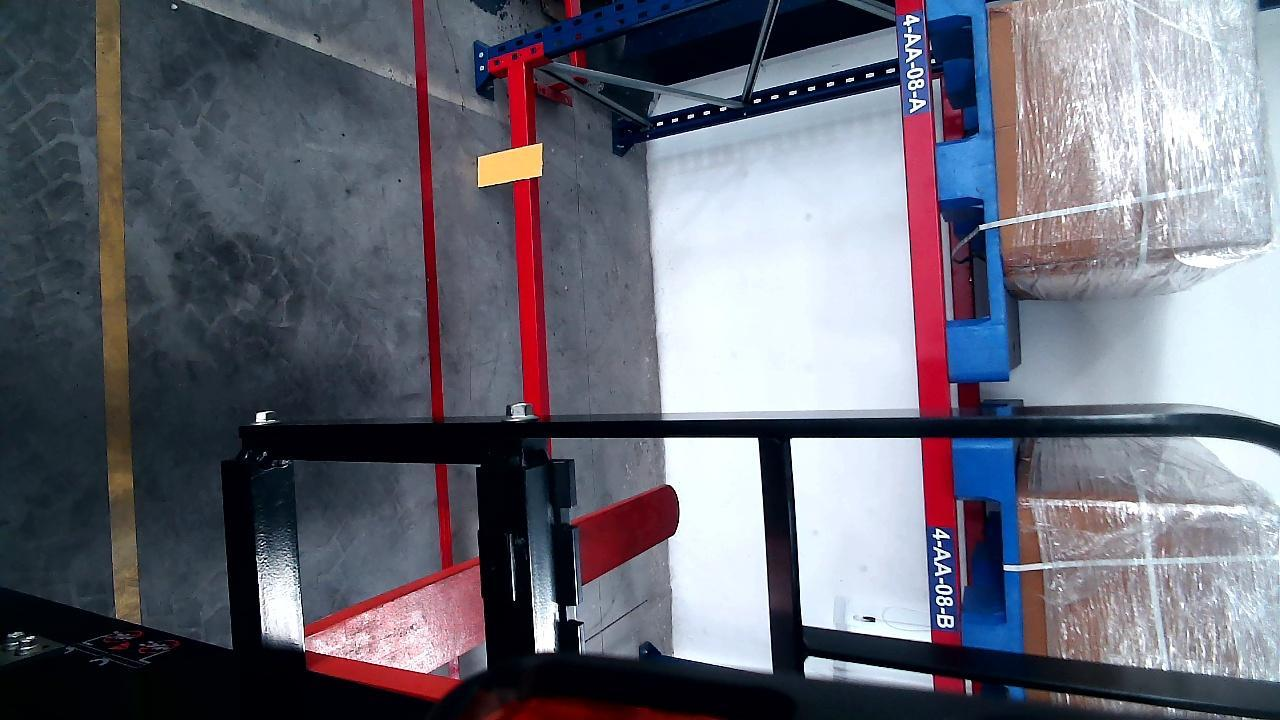red_line: (414, 0, 447, 571)
yellow_line: (94, 0, 139, 626)
